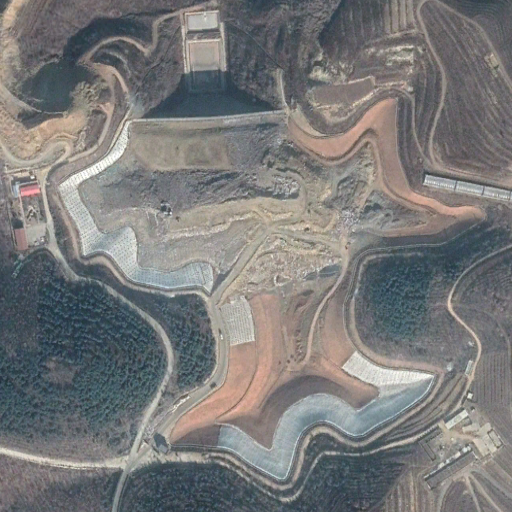lf: (59, 111, 487, 492)
